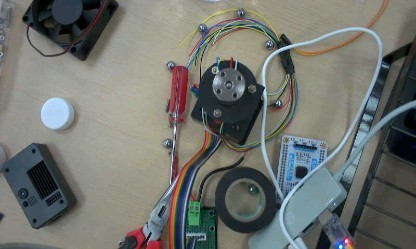ironball: (247, 184, 258, 195), (162, 138, 171, 148), (265, 39, 274, 49), (273, 99, 282, 108), (166, 60, 174, 70), (236, 7, 244, 17), (198, 23, 206, 32)
